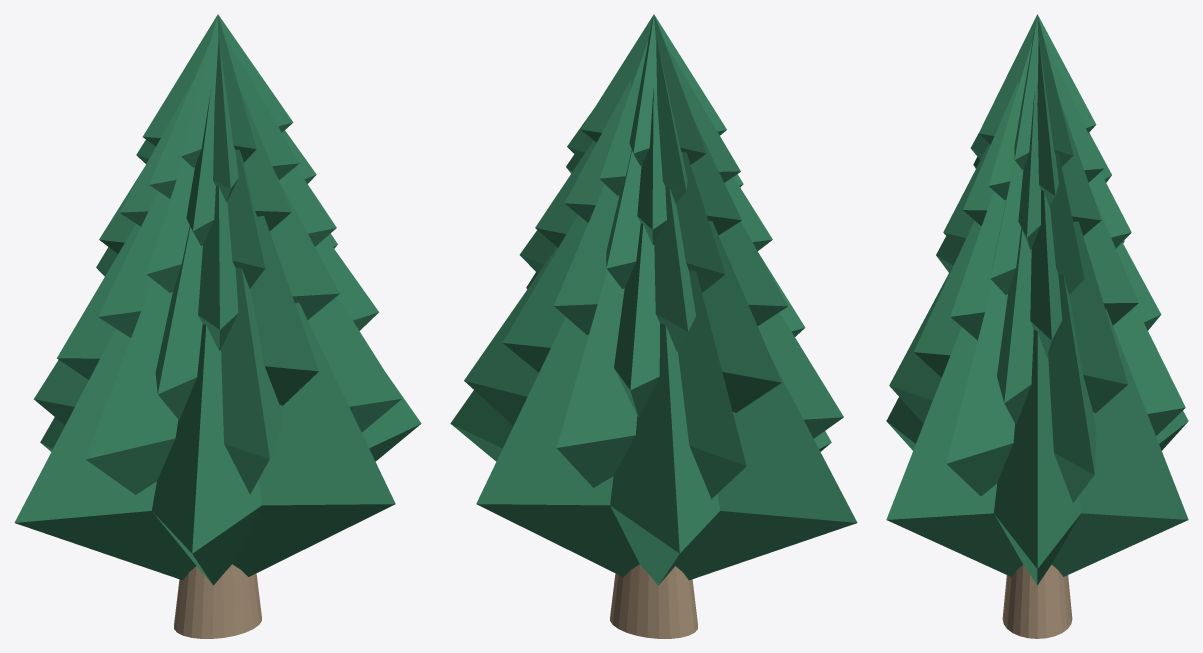
The model's file is tree.glb.
3 views of the same model, side by side, from view 1: azimuth 30°, elevation 25°; view 2: azimuth 150°, elevation 25°; view 3: azimuth 270°, elevation 25° (orthographic).
Visible parts, largest first — view 1: Mesh_Mesh_head_geo.001_lambert2SG.001; view 2: Mesh_Mesh_head_geo.001_lambert2SG.001; view 3: Mesh_Mesh_head_geo.001_lambert2SG.001.
Boxes of the visible parts, <box> form: Mesh_Mesh_head_geo.001_lambert2SG.001: <box>14,14,421,638</box>; Mesh_Mesh_head_geo.001_lambert2SG.001: <box>450,14,857,638</box>; Mesh_Mesh_head_geo.001_lambert2SG.001: <box>886,14,1188,638</box>.
Size of the model in its own units: 0.035 by 0.05 by 0.0226.
